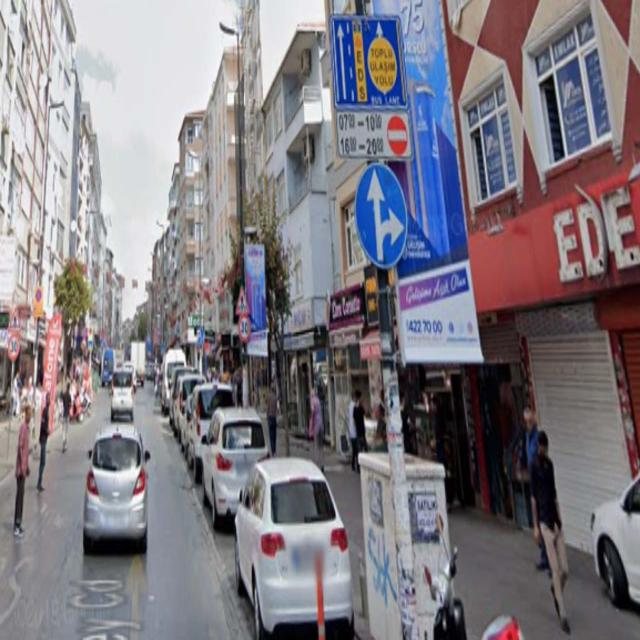30: (7, 334, 21, 359), (239, 316, 251, 343)
girisyok: (385, 114, 409, 153)
ilerisag: (354, 159, 408, 272)
